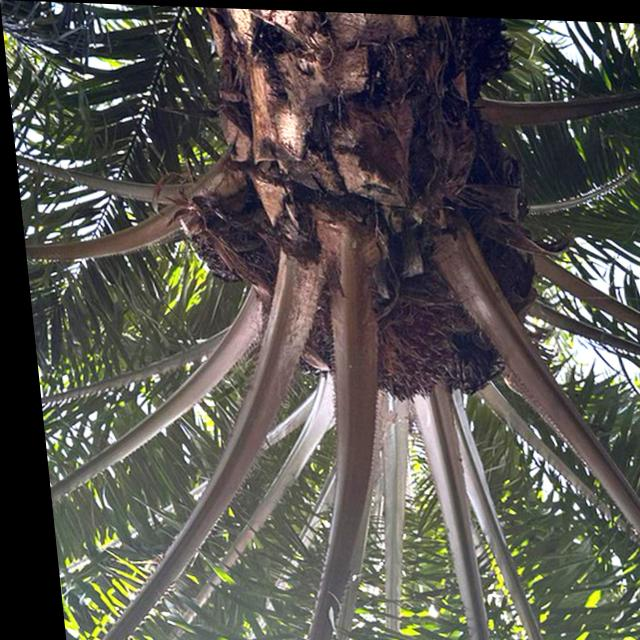ripe: (342, 273, 484, 409)
